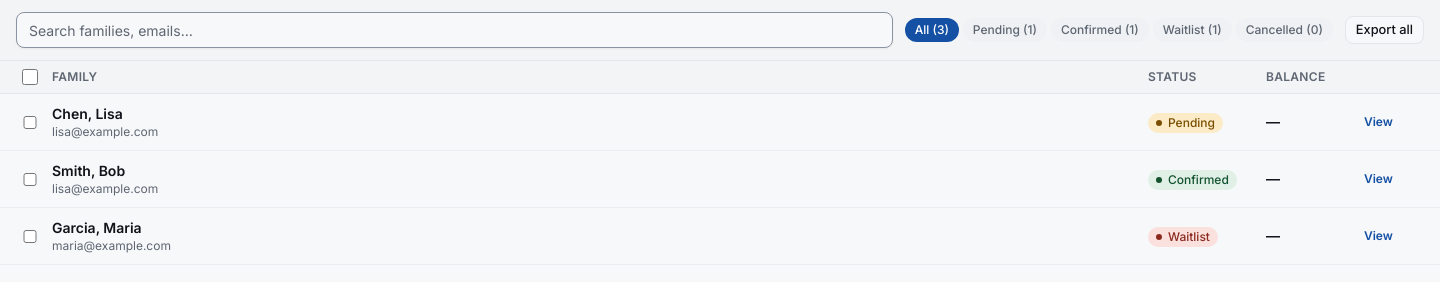
Test: FamiliesTable › filters rows by search text (email match)
Type "maria@" into the field with placeholder "Search families, emails…" at (454, 30), box [16,12,893,48]
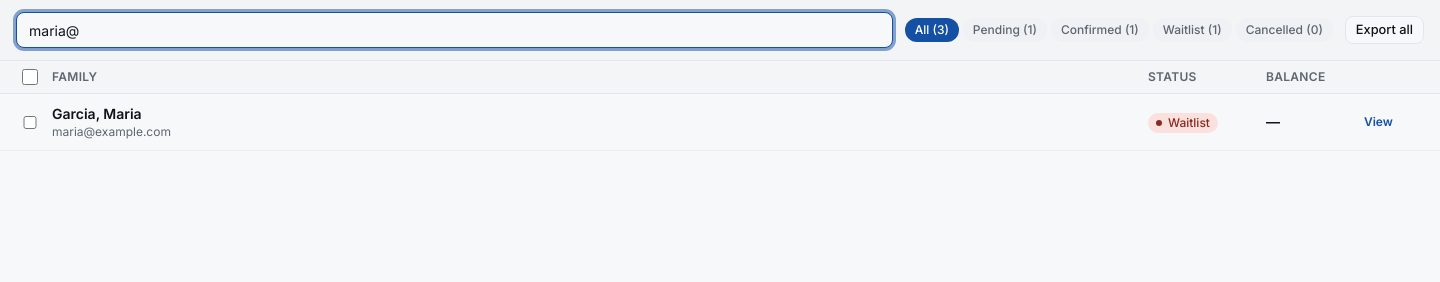
Expected: the text "Garcia, Maria" is shown, [52,105,142,122]
Now the text "Chen, Lisa" is gone
